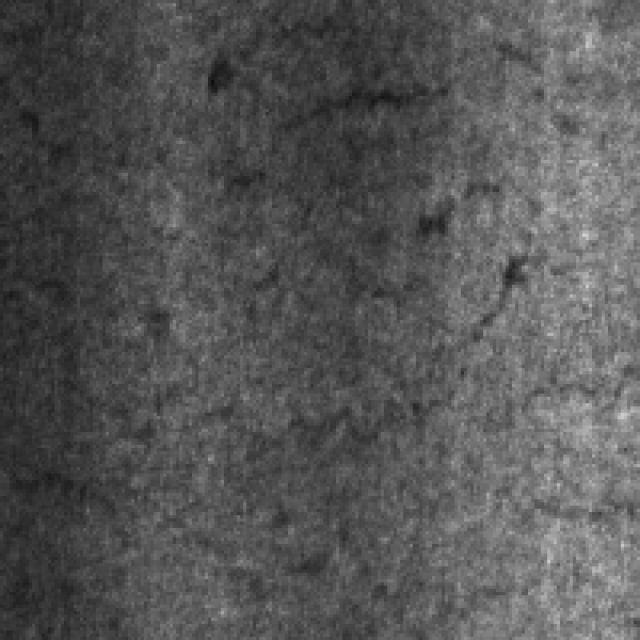crazing: (0, 387, 509, 595), (211, 42, 557, 294), (307, 170, 547, 380)
